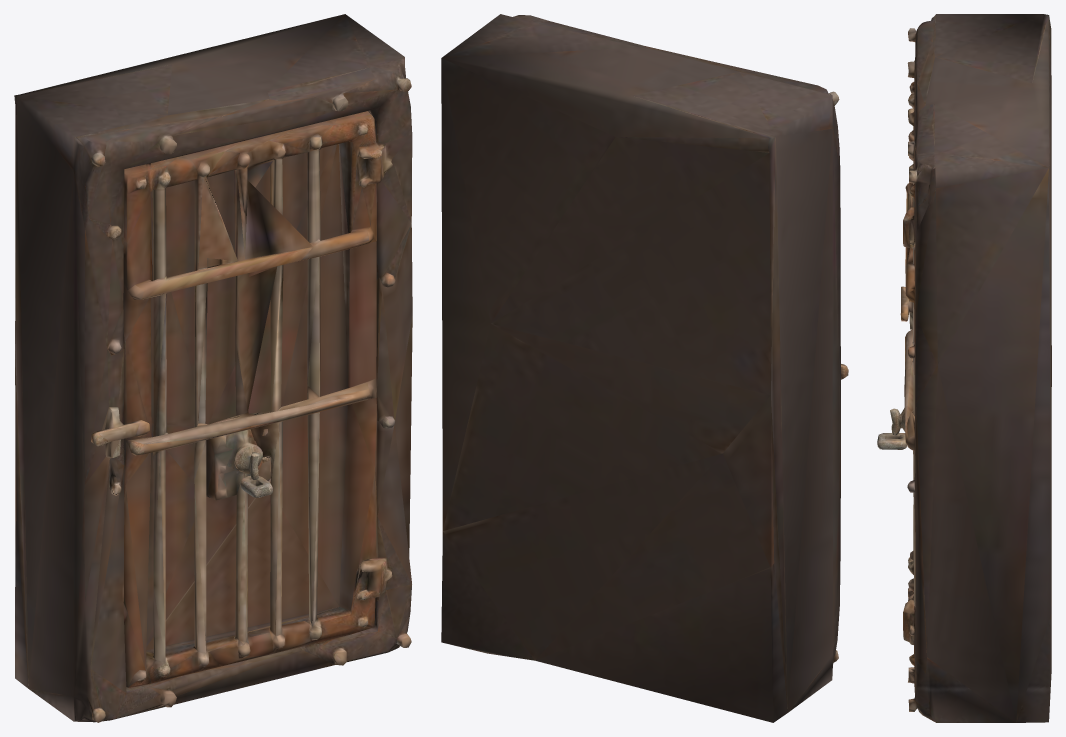
The model's file is cell_door.glb.
3 renders of one model, left to right at view 1: azimuth 30°, elevation 25°; view 2: azimuth 150°, elevation 25°; view 3: azimuth 270°, elevation 25°, orthographic. The views are drawn at different scales.
Size of the model in its own units: 1.13 by 1.9 by 0.5412.
Materials: 1 (1 with a texture image).
